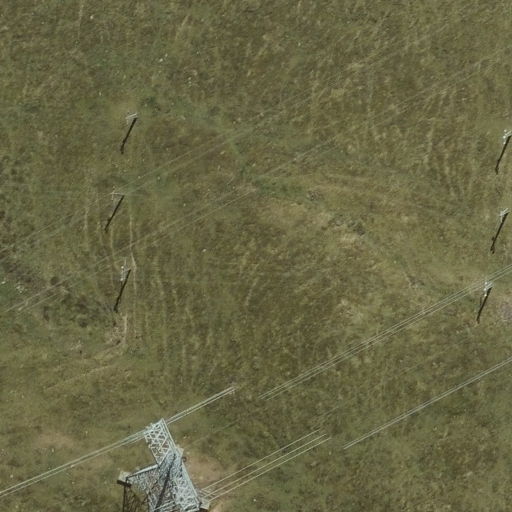DT: (116, 256, 136, 286), (479, 275, 498, 297), (122, 107, 142, 127), (107, 183, 127, 203), (497, 203, 512, 225), (500, 126, 512, 145)
TT: (127, 416, 208, 512)
